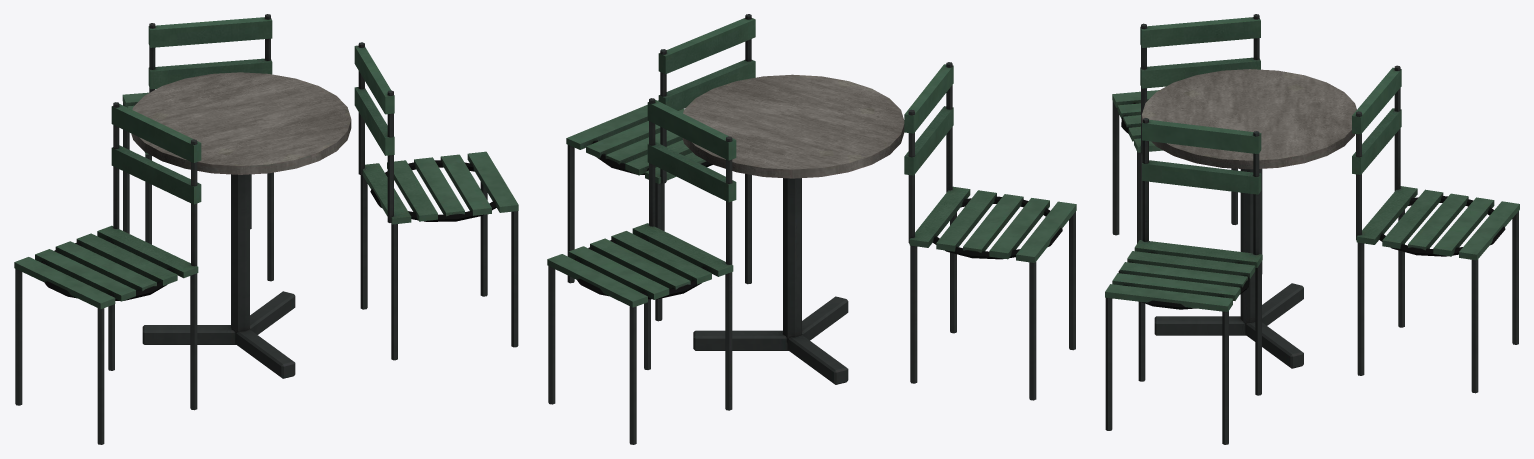
Rendered from cafe_set.glb.
3 renders of one model, left to right at view 1: azimuth 30°, elevation 25°; view 2: azimuth 150°, elevation 25°; view 3: azimuth 270°, elevation 25°, orthographic. The views are drawn at different scales.
Visible parts, largest first — view 1: cafe_set; view 2: cafe_set; view 3: cafe_set.
Boxes of the visible parts, left/top/right/bottom form: cafe_set: left=14, top=14, right=518, bottom=444; cafe_set: left=547, top=14, right=1076, bottom=444; cafe_set: left=1105, top=14, right=1519, bottom=444.
Size of the model in its own units: 1.65 by 0.9 by 1.3.
Materials: 1 (1 with a texture image).
